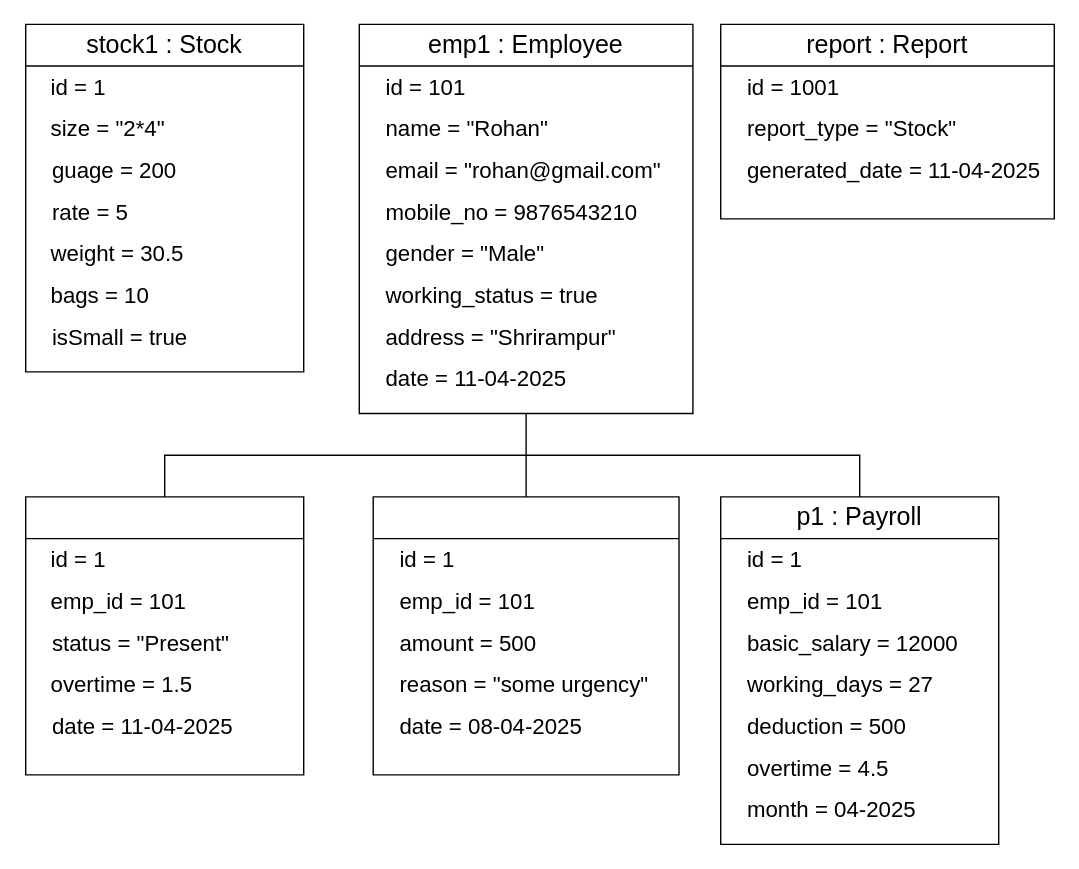
The diagram is 1079 pixels wide and 869 high, and some of its shapes have lost their labels. The shapes that lost their labels are listed below. From the top down, each one's box as (x1, y1, x2, y2) in pixels, then its label:
(24, 496, 304, 775): att1 : Attendance
(372, 496, 679, 775): pre1 : Prepayment
